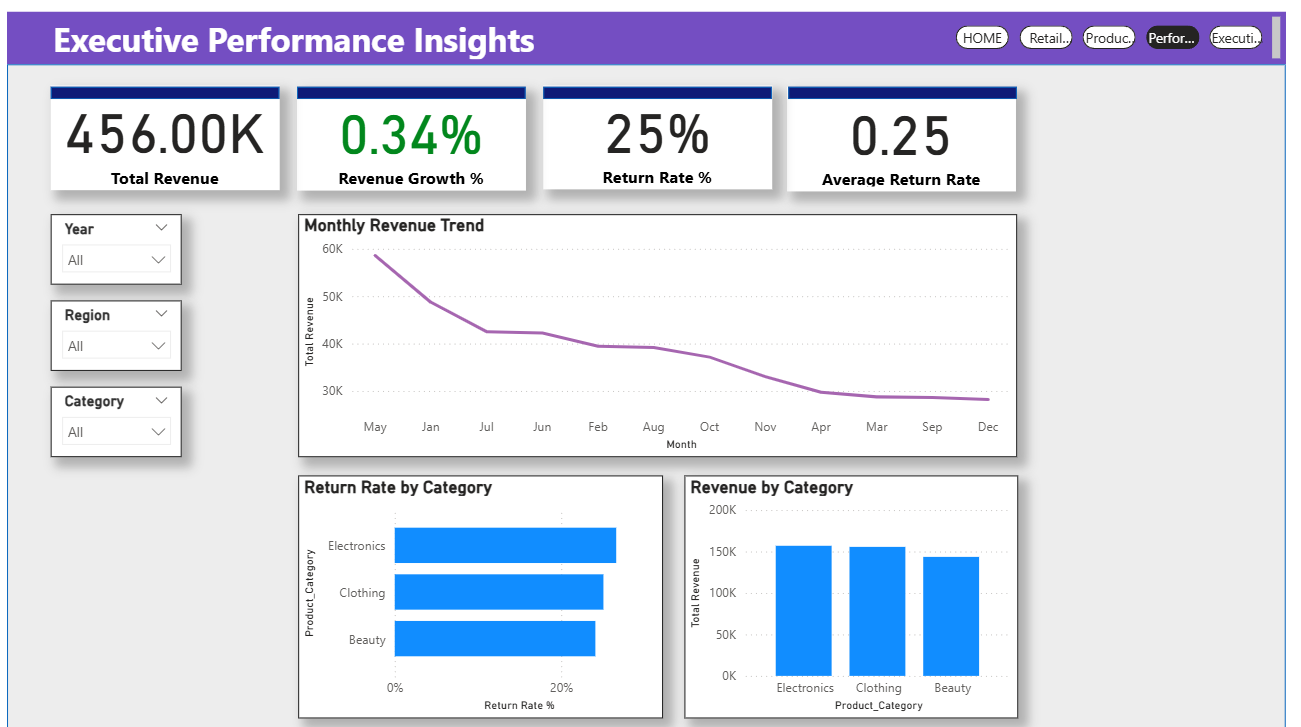

This screenshot's page, from the dashboard's own definition file:
{"tool":"powerbi","page":{"name":"Performance Insights","canvas":[1280,720],"ordinal":3},"visuals":[{"type":"textbox","box":[9.8,18.3,1251,51.4],"z":0},{"type":"shape","box":[9.8,69.7,1251,650.5],"z":1000},{"type":"card","fields":{"Values":["Dim_Catogary.Total Revenue"]},"box":[52.9,90.4,223.7,102.7],"z":2000,"group":"g4"},{"type":"card","fields":{"Values":["Dim_Catogary.Revenue Growth %"]},"box":[294.3,91.6,223.7,101.5],"z":2001,"group":"g3"},{"type":"card","fields":{"Values":["Dim_Catogary.Return Rate %"]},"box":[534.4,90.4,223.7,101.5],"z":2002,"group":"g2"},{"type":"card","fields":{"Values":["Dim_Catogary.Average Return Rate"]},"box":[773.2,91.6,223.7,102.7],"z":2003,"group":"g1"},{"type":"clusteredColumnChart","title":"Revenue by Category","fields":{"Category":["Dim_Catogary.Product_Category"],"Y":["Dim_Catogary.Total Revenue"]},"box":[672.6,472,326.5,237.2],"z":2004},{"type":"lineChart","title":"Monthly Revenue Trend","fields":{"Category":["Dim_Date.Month"],"Y":["Dim_Catogary.Total Revenue"]},"box":[294.7,216.4,703.1,237.2],"z":2005},{"type":"barChart","title":"Return Rate by Category","fields":{"Category":["Dim_Catogary.Product_Category"],"Y":["Dim_Catogary.Return Rate %"]},"box":[294.7,472,357.1,237.2],"z":2006},{"type":"shape","box":[52.9,91.6,223.7,12.2],"z":2007,"group":"g4"},{"type":"shape","box":[294.3,91.6,223.7,12.2],"z":2008,"group":"g3"},{"type":"shape","box":[534.4,91.6,223.7,12.2],"z":2009,"group":"g2"},{"type":"shape","box":[774.5,91.6,223.7,12.2],"z":2010,"group":"g1"},{"type":"group","id":"g1","title":"Group 1","box":[773.2,91.6,224.9,102.7],"z":2011,"group":"g5"},{"type":"group","id":"g2","title":"Group 2","box":[534.4,90.4,223.7,101.5],"z":2012,"group":"g5"},{"type":"group","id":"g3","title":"Group 3","box":[294.3,91.6,223.7,101.5],"z":2013,"group":"g5"},{"type":"group","id":"g4","title":"Group 4","box":[52.9,90.4,223.7,102.7],"z":2014,"group":"g5"},{"type":"group","id":"g5","title":"Group 5","box":[52.9,90.4,946.1,104.3],"z":2015},{"type":"slicer","fields":{"Values":["Dim_Date.Year"]},"box":[52.6,216.4,128.4,68.5],"z":2016},{"type":"slicer","fields":{"Values":["Dim_region.Region"]},"box":[52.6,300.8,128.4,68.5],"z":2017},{"type":"slicer","fields":{"Values":["Dim_Catogary.Product_Category"]},"box":[52.6,385.2,128.4,68.5],"z":2018},{"type":"pageNavigator","box":[937.9,31.8,302,23.2],"z":2019}]}

Visuals, with their boxes in screenshot pixels (x1, y1, x2, y2), scaled from the page's 1280x720 canvas onto the 1301x727 screenshot:
textbox: (left=10, top=18, right=1281, bottom=70)
shape: (left=10, top=70, right=1281, bottom=726)
card - Dim_Catogary.Total Revenue: (left=54, top=91, right=281, bottom=195)
card - Dim_Catogary.Revenue Growth %: (left=299, top=92, right=526, bottom=195)
card - Dim_Catogary.Return Rate %: (left=543, top=91, right=771, bottom=194)
card - Dim_Catogary.Average Return Rate: (left=786, top=92, right=1013, bottom=196)
"Revenue by Category" clusteredColumnChart: (left=684, top=477, right=1015, bottom=716)
"Monthly Revenue Trend" lineChart: (left=300, top=219, right=1014, bottom=458)
"Return Rate by Category" barChart: (left=300, top=477, right=662, bottom=716)
shape: (left=54, top=92, right=281, bottom=105)
shape: (left=299, top=92, right=526, bottom=105)
shape: (left=543, top=92, right=771, bottom=105)
shape: (left=787, top=92, right=1015, bottom=105)
"Group 1" group: (left=786, top=92, right=1014, bottom=196)
"Group 2" group: (left=543, top=91, right=771, bottom=194)
"Group 3" group: (left=299, top=92, right=526, bottom=195)
"Group 4" group: (left=54, top=91, right=281, bottom=195)
"Group 5" group: (left=54, top=91, right=1015, bottom=197)
slicer - Dim_Date.Year: (left=53, top=219, right=184, bottom=288)
slicer - Dim_region.Region: (left=53, top=304, right=184, bottom=373)
slicer - Dim_Catogary.Product_Category: (left=53, top=389, right=184, bottom=458)
pageNavigator: (left=953, top=32, right=1260, bottom=56)
